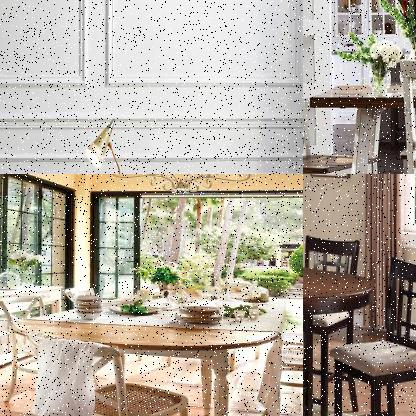table: (8, 276, 293, 415), (303, 254, 380, 415), (306, 71, 415, 173)
